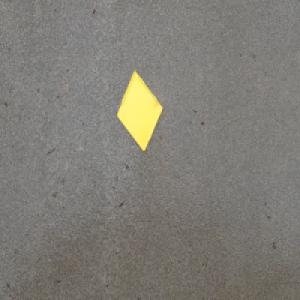PlasticPart: (116, 68, 163, 152)
